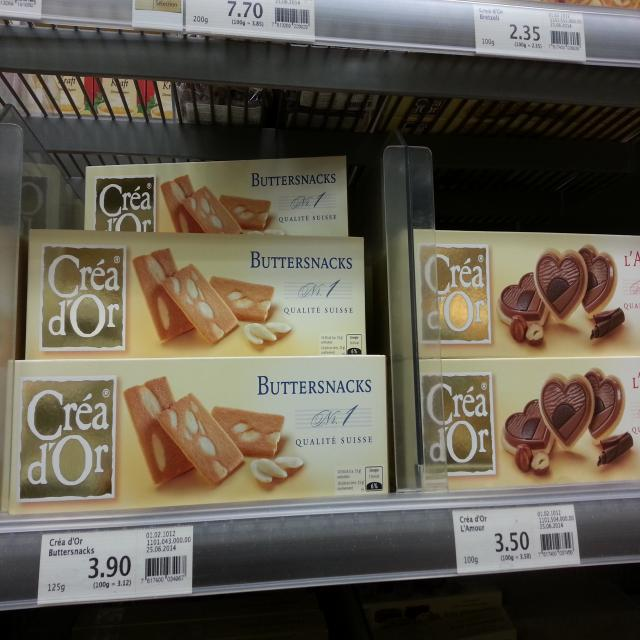Biscuits: (0, 353, 390, 519), (16, 228, 369, 356), (398, 359, 640, 502), (380, 230, 640, 355), (86, 157, 349, 241)
